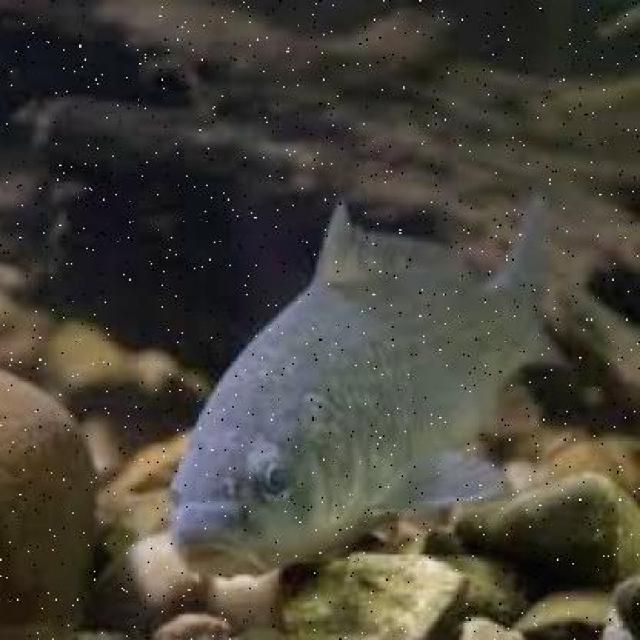ikan-mas: (157, 205, 560, 582)
